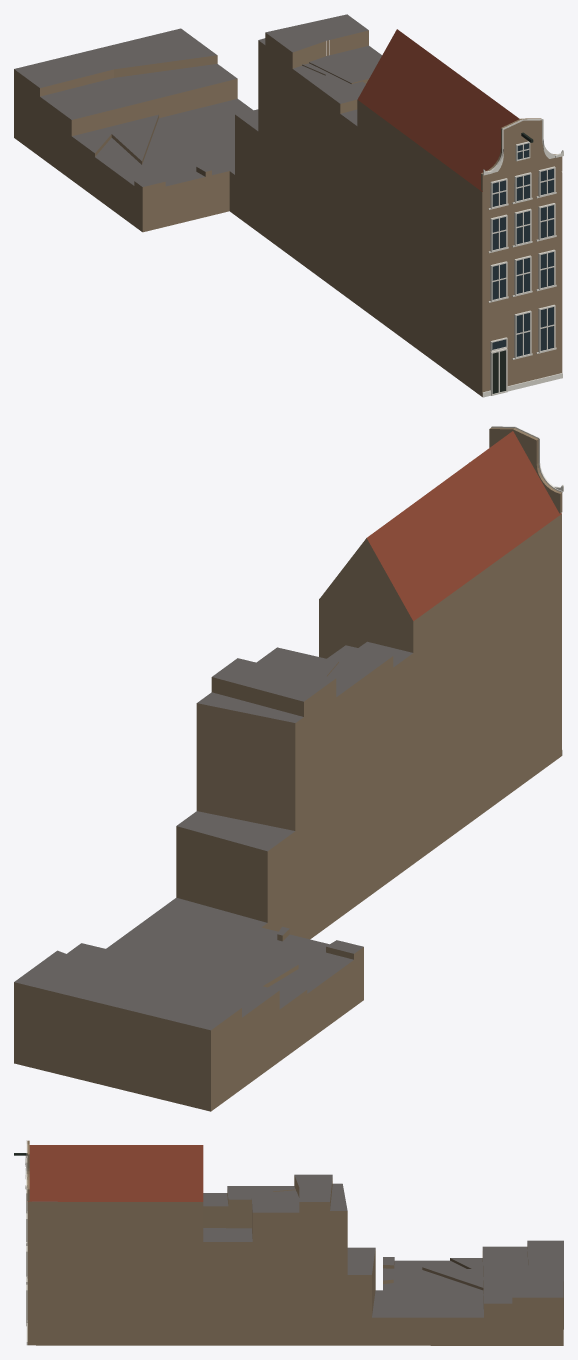
The picture shows the model from 3 angles, top to bottom: view 1: azimuth 30°, elevation 25°; view 2: azimuth 150°, elevation 25°; view 3: azimuth 270°, elevation 25°; orthographic projection. The views are drawn at different scales.
Visible parts, largest first — view 1: spec-0363100012185919; view 2: spec-0363100012185919; view 3: spec-0363100012185919.
Part boxes in pixels (x1=…): spec-0363100012185919: x1=14, y1=14, x2=563, y2=397; spec-0363100012185919: x1=14, y1=426, x2=563, y2=1111; spec-0363100012185919: x1=14, y1=1140, x2=563, y2=1345.
Size of the model in its own units: 10.87 by 16.66 by 44.18.
